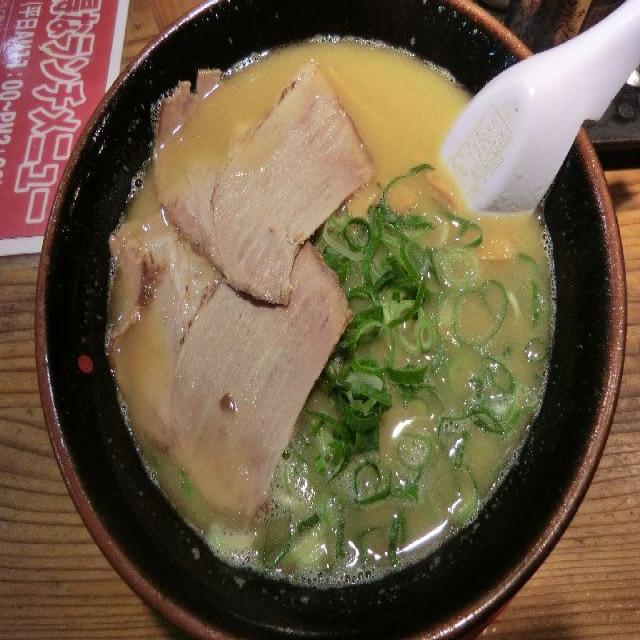面条主食: (22, 0, 632, 637)
